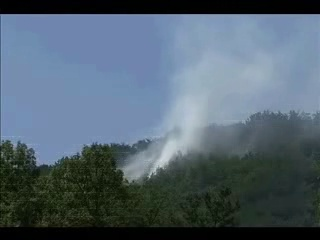smoke: (179, 14, 291, 151), (108, 99, 194, 184)
